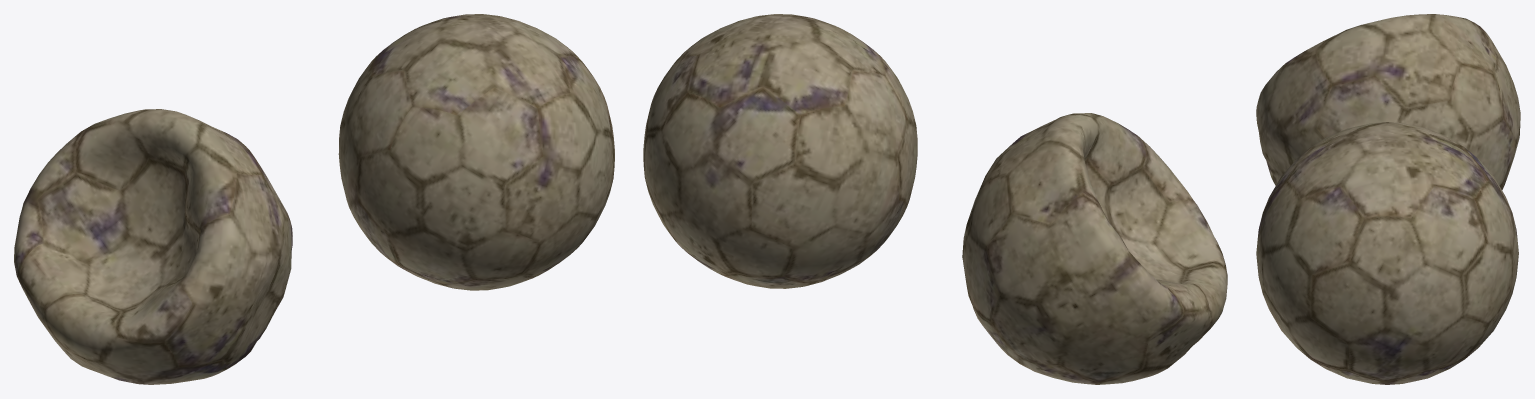
File: football.glb
3 views of the same model, side by side, from view 1: azimuth 30°, elevation 25°; view 2: azimuth 150°, elevation 25°; view 3: azimuth 270°, elevation 25° (orthographic). The views are drawn at different scales.
Visible parts, largest first — view 1: football_deflated; view 2: football_deflated; view 3: football_deflated.
Boxes of the visible parts, x1,y1,x2,y2 form: football_deflated: (14,14,614,384); football_deflated: (643,14,1227,384); football_deflated: (1256,14,1520,384).
Size of the model in its own units: 0.5089 by 0.2219 by 0.2222.
Materials: 1 (1 with a texture image).
